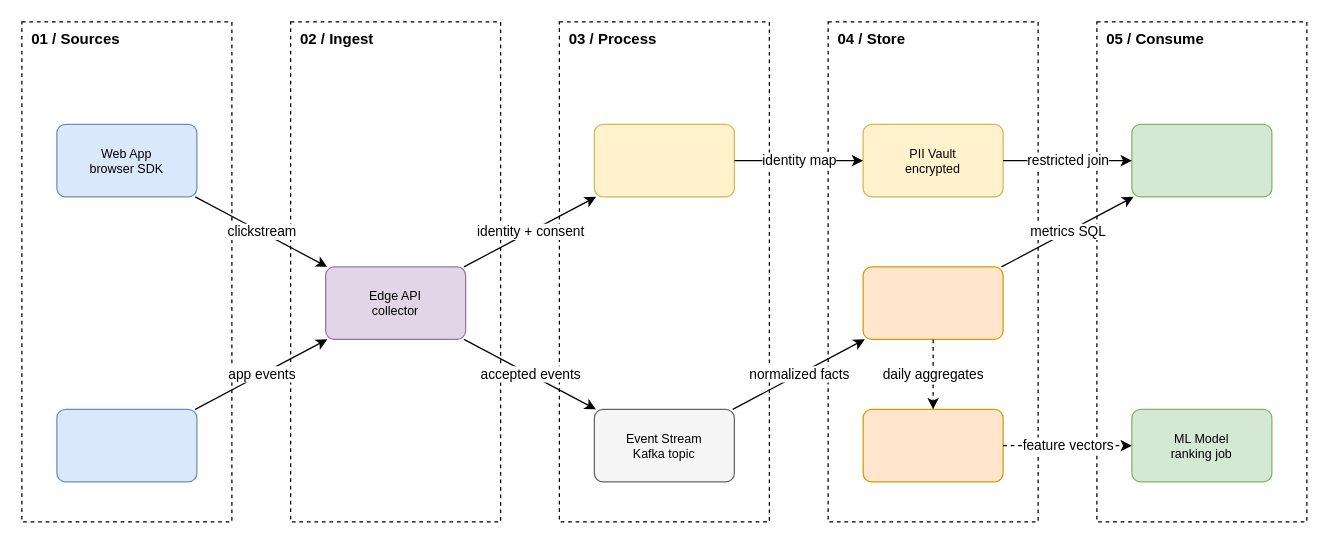
Image size: 1329x544. Some labels were removed from this diagram. The centre of each missing label's shape, as x and y in pixels:
"Consent Gate policy filter" goes at [663,160].
"Dashboards product metrics" goes at [1201,160].
"Feature Store daily batch" goes at [932,445].
"Mobile iOS / Android" goes at [126,445].
"Warehouse analytics tables" goes at [932,302].
